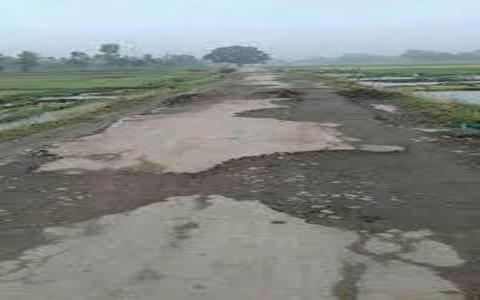patchy roads: (190, 126, 395, 197), (6, 122, 167, 188)
